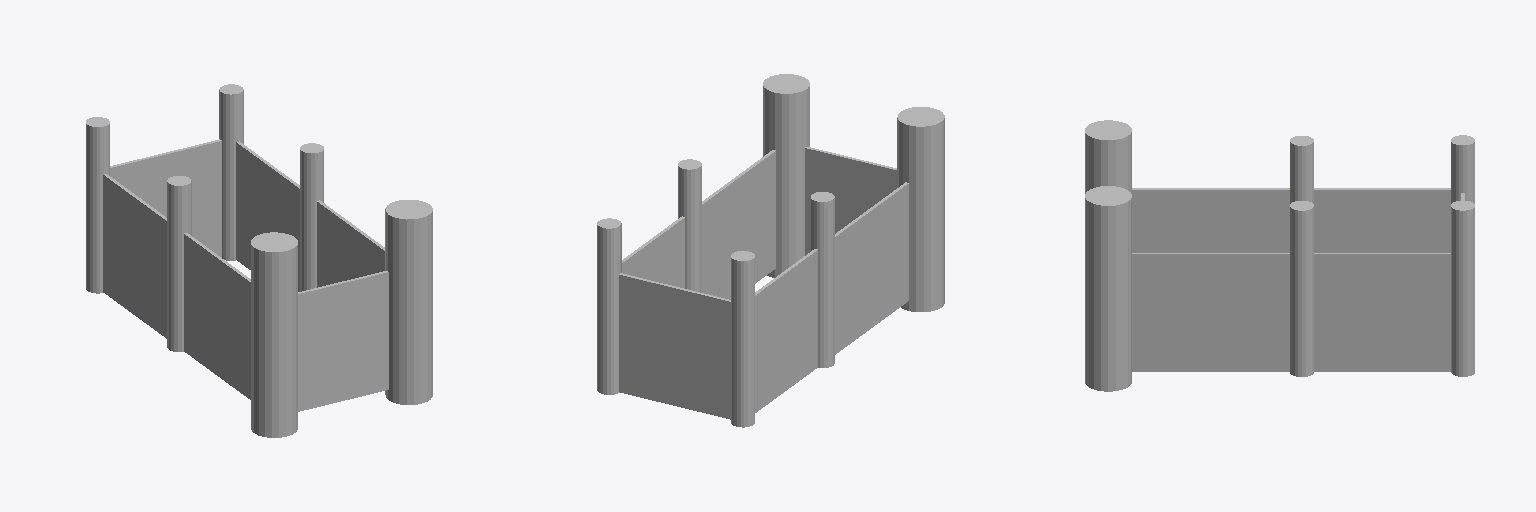
File: walldouble18.obj
3 renders of one model, left to right at view 1: azimuth 30°, elevation 25°; view 2: azimuth 150°, elevation 25°; view 3: azimuth 270°, elevation 25°, orthographic.
Parts seen in each view (by area): view 1: walldouble18; view 2: walldouble18; view 3: walldouble18.
Boxes of the visible parts, box(x1,y1,x2,y2) form: walldouble18: box(86, 84, 432, 437); walldouble18: box(597, 74, 944, 427); walldouble18: box(1085, 120, 1474, 391).
Bounding box in the file's own units: 27.23 × 27.5 × 52.44.